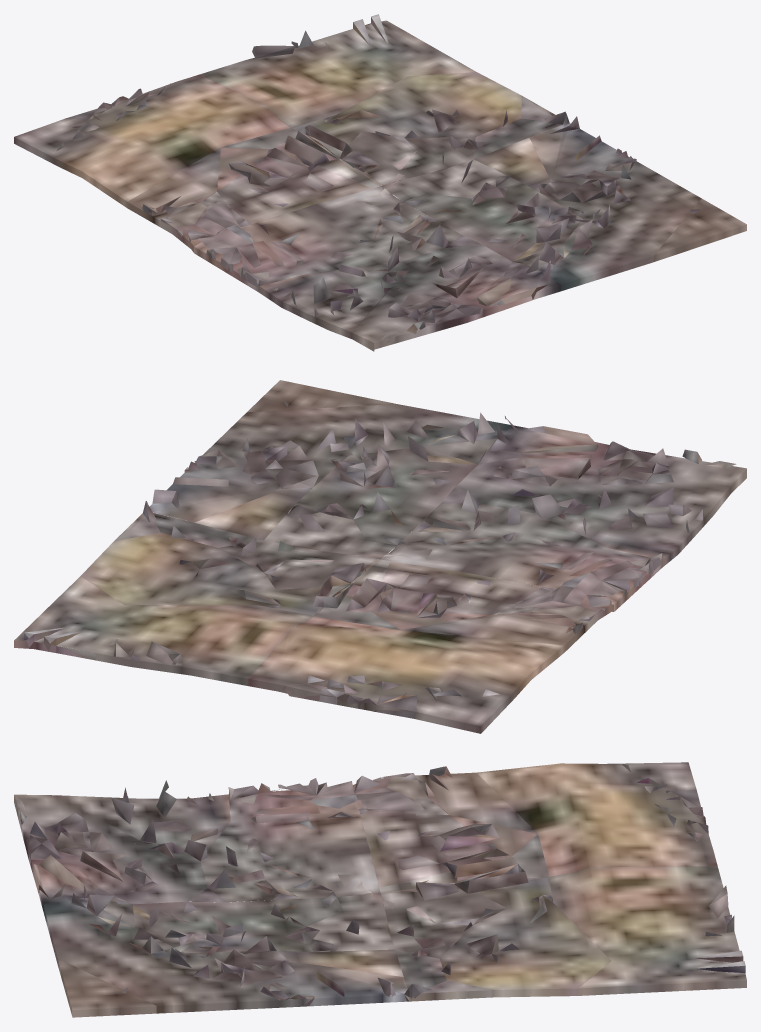
3 views of the same model, one above another, from view 1: azimuth 30°, elevation 25°; view 2: azimuth 150°, elevation 25°; view 3: azimuth 270°, elevation 25° (orthographic). The views are drawn at different scales.
Visible parts, largest first — view 1: Mesh_0; view 2: Mesh_0; view 3: Mesh_0.
Boxes of the visible parts, x1,y1,x2,y2 form: Mesh_0: (14,14,746,351); Mesh_0: (14,380,746,733); Mesh_0: (14,762,746,1017).
Bounding box in the file's own units: 1064 × 79.45 × 1317.
Materials: 1 (1 with a texture image).
